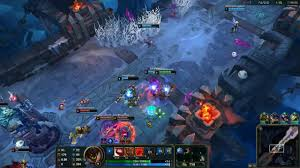bar: (75, 107, 98, 114), (117, 75, 140, 82), (10, 146, 33, 153), (223, 6, 247, 12), (137, 23, 160, 29), (154, 69, 176, 75), (143, 69, 164, 75), (95, 116, 117, 121), (115, 116, 134, 121), (1, 101, 9, 107)
